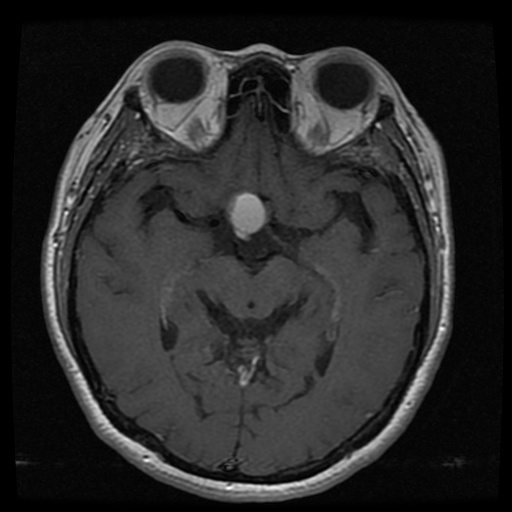pituitary: (227, 192, 263, 236)
